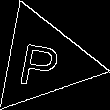P_N: (19, 32, 67, 89)
